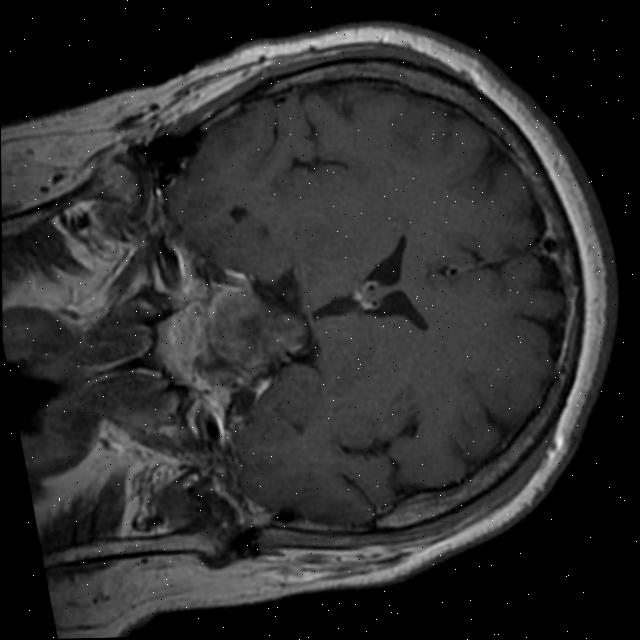Pituitary: (150, 270, 316, 406)
